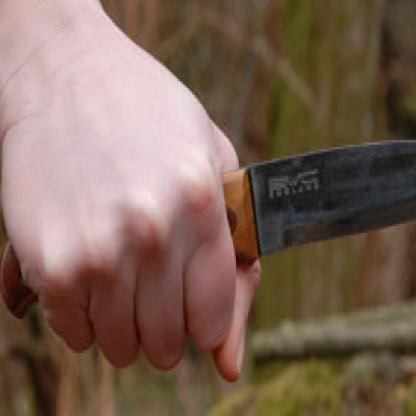knife: (83, 106, 415, 382)
